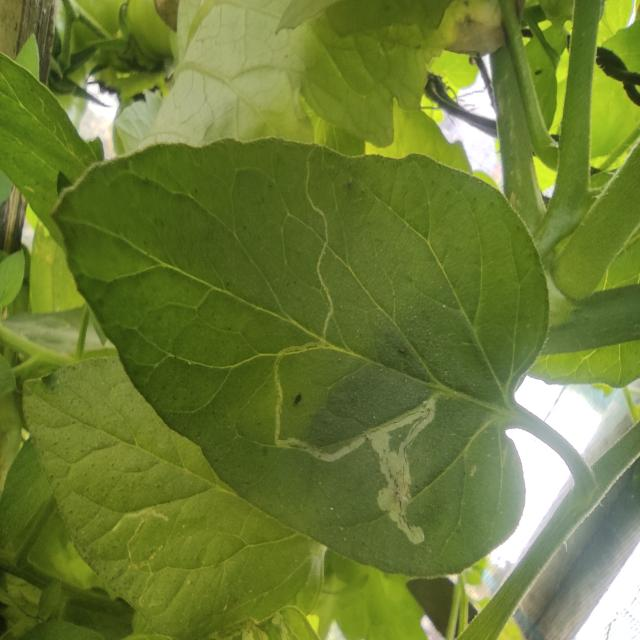Tuta absoluta: (269, 204, 365, 463), (366, 399, 435, 544)
